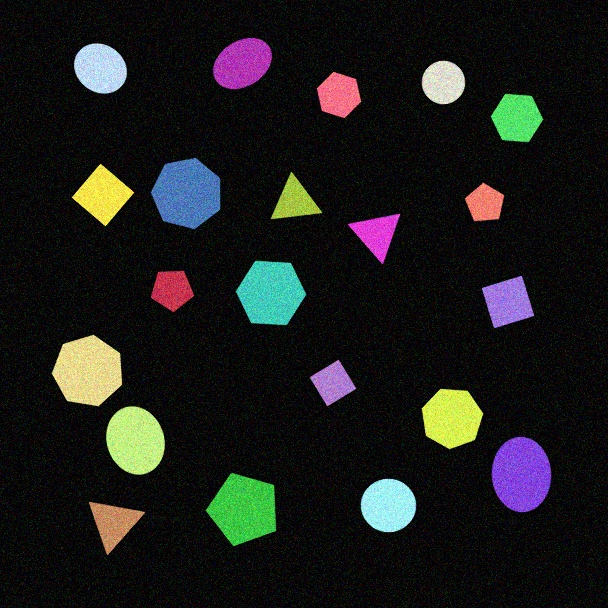Circulo: (360, 478, 417, 533), (73, 43, 128, 94), (421, 60, 466, 105)
Elipse: (491, 436, 552, 513), (105, 406, 166, 475), (212, 37, 273, 90)
Heptagono: (51, 334, 123, 407), (150, 157, 221, 230), (421, 388, 484, 450)
Hexagono: (235, 260, 307, 326), (490, 93, 544, 143), (316, 71, 362, 119)
Pentagono: (205, 472, 277, 547), (150, 270, 195, 313), (464, 182, 505, 222)
Quadrado: (71, 163, 135, 227), (481, 275, 535, 329), (309, 359, 357, 407)
Triangulo: (88, 501, 146, 556), (347, 213, 401, 265), (270, 172, 323, 220)
